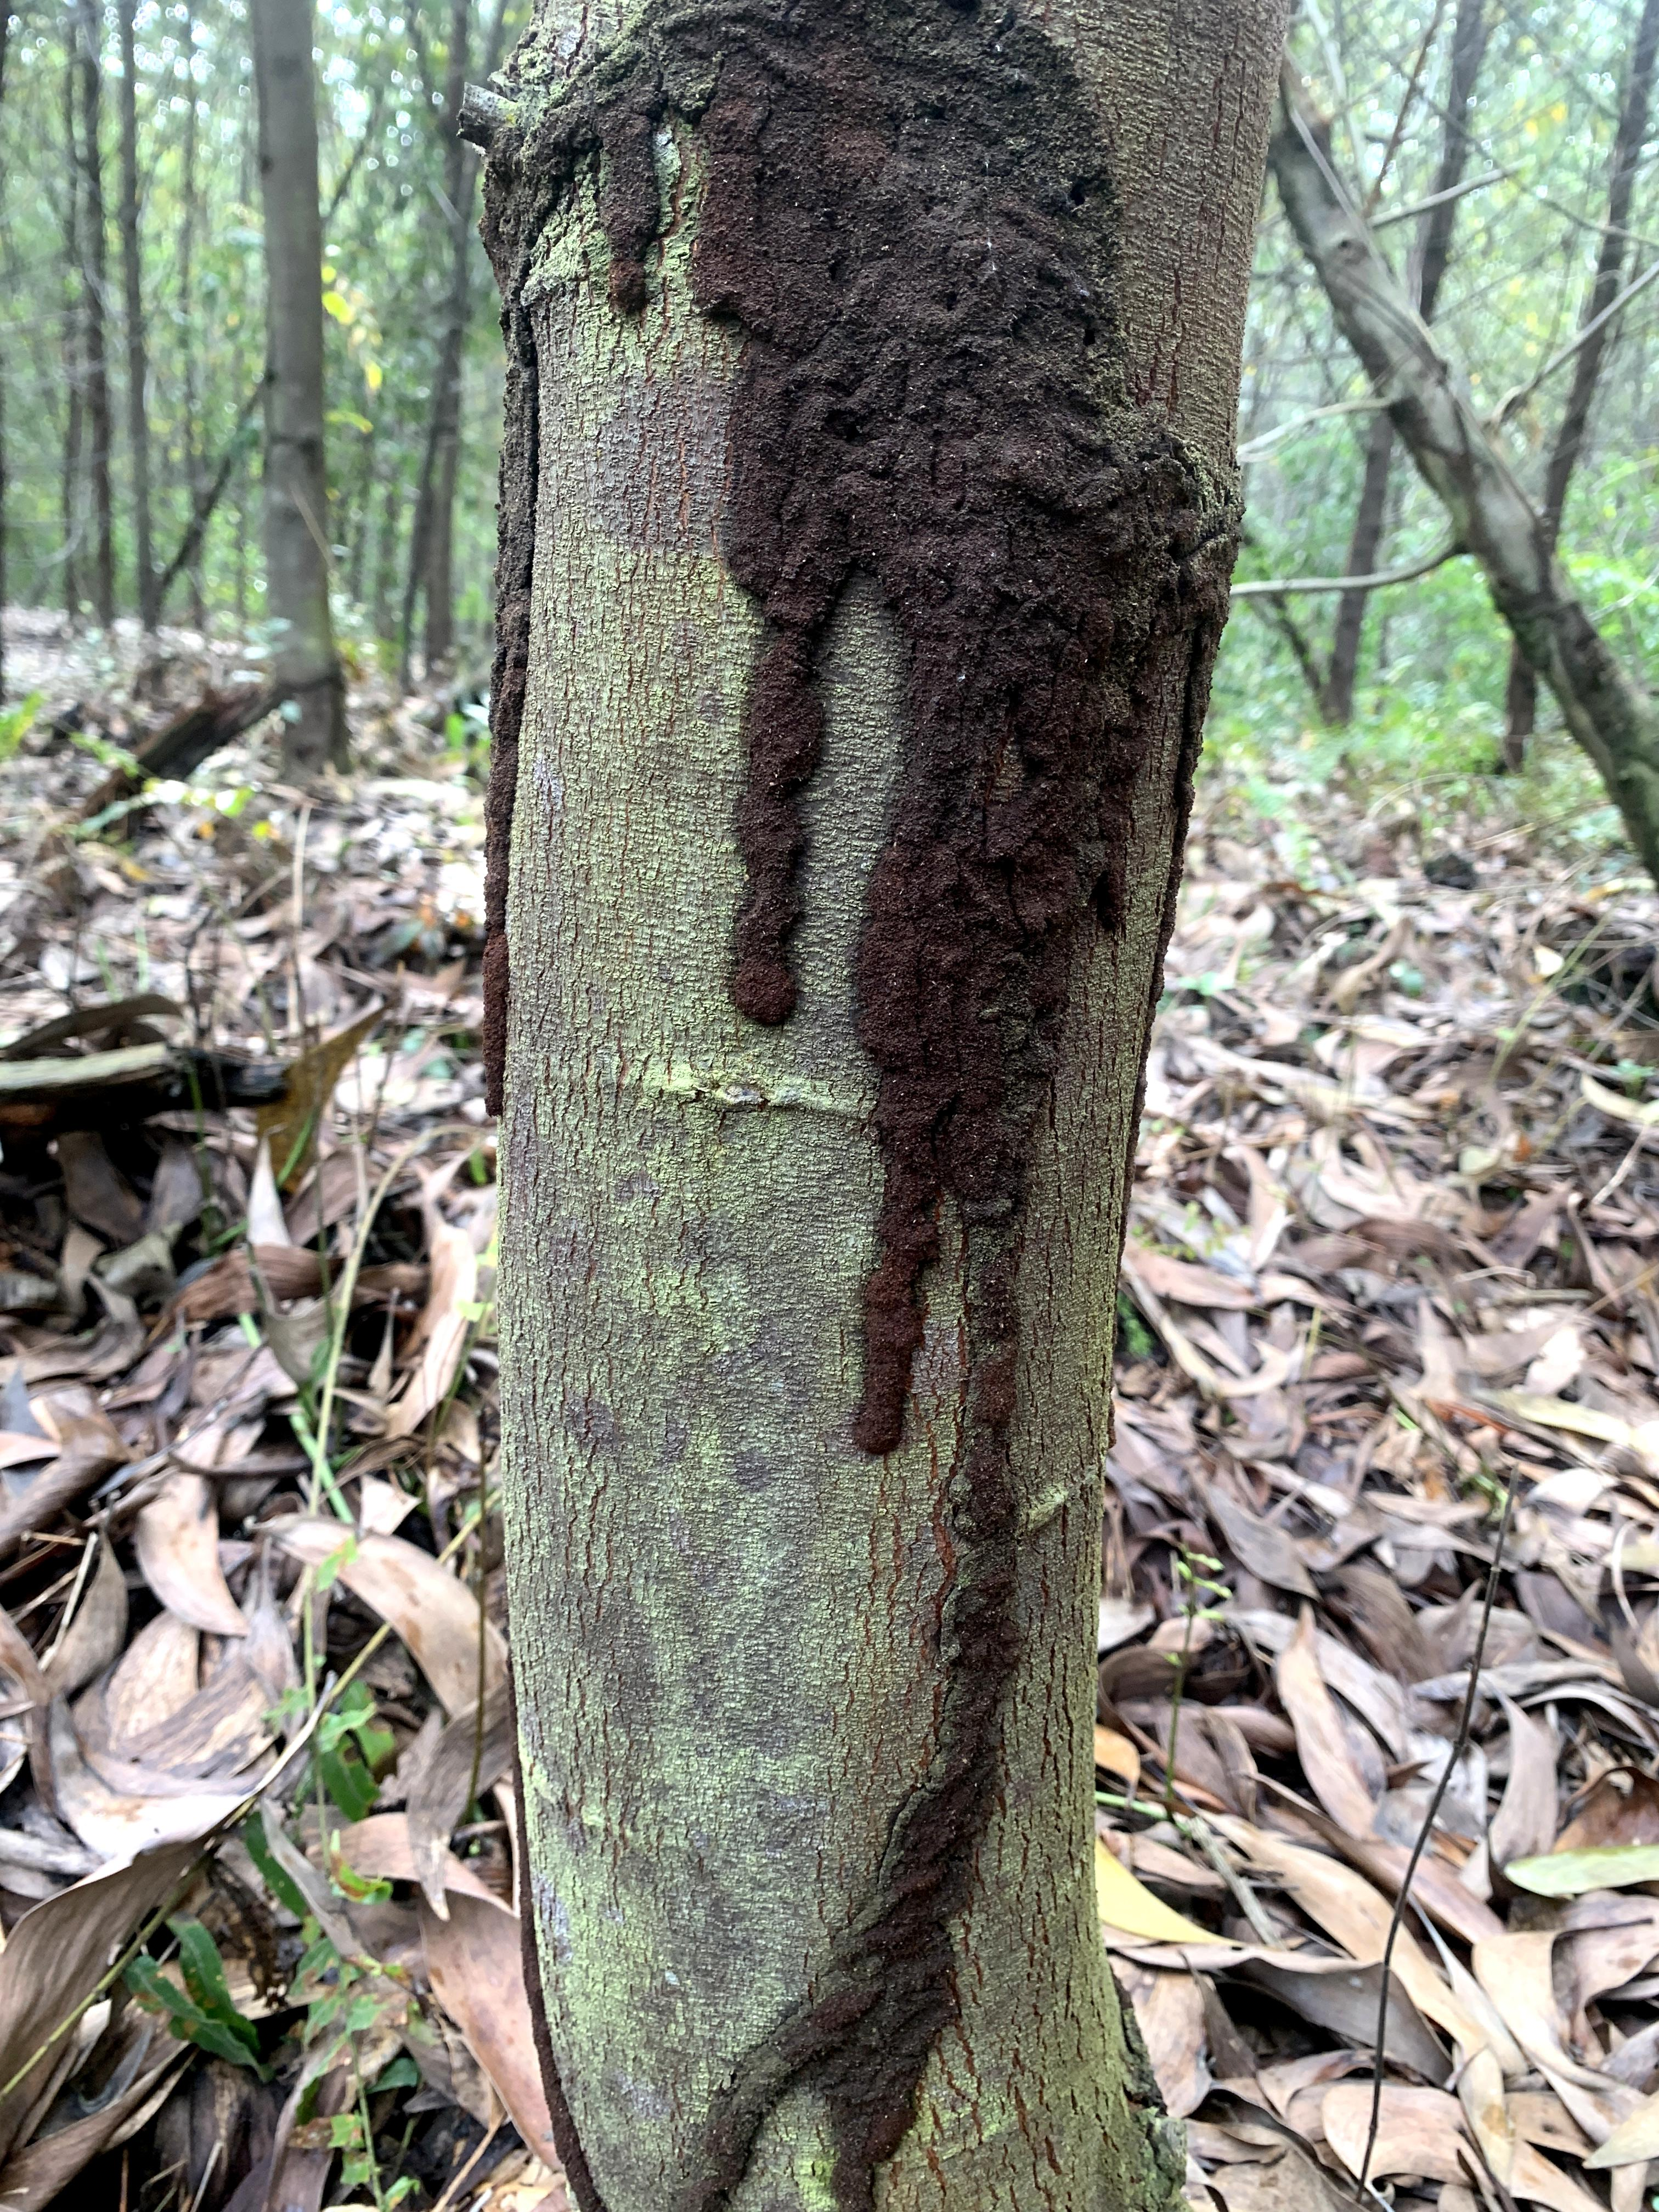Termite - Nest: (544, 7, 1105, 2212)
